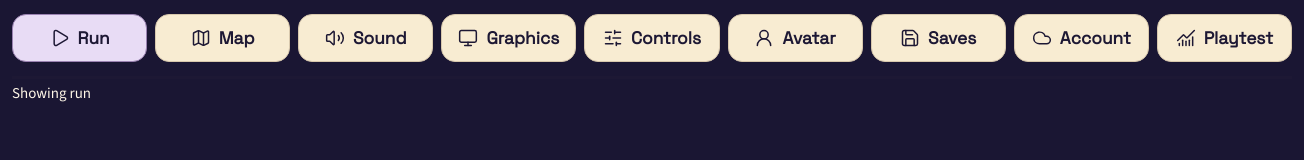
Test case: menu tabs › puts Account between Saves and Playtest, and mounts it on click
What coordinates should you click on to do the following:
click the tab "Account"
I would click on:
 (1081, 38)
Its box is [1014,14,1149,62].
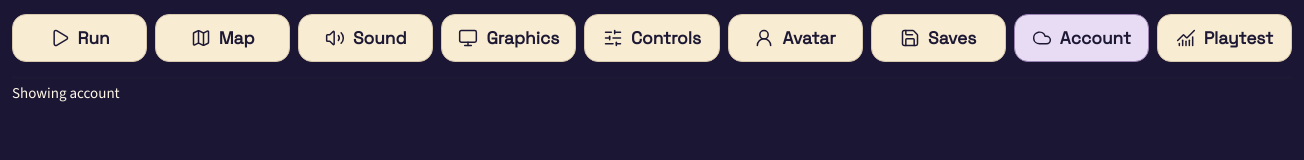
expect the text "Showing account" is shown: met, box [12,83,120,103]
